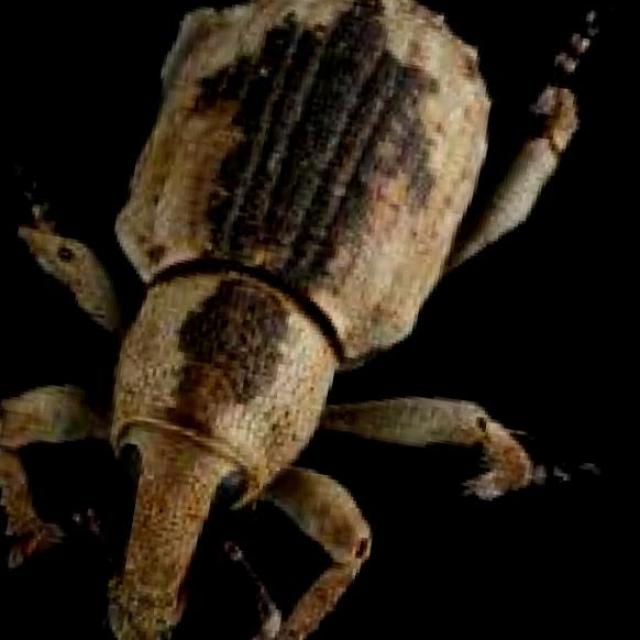ricebug: (0, 0, 577, 640)
